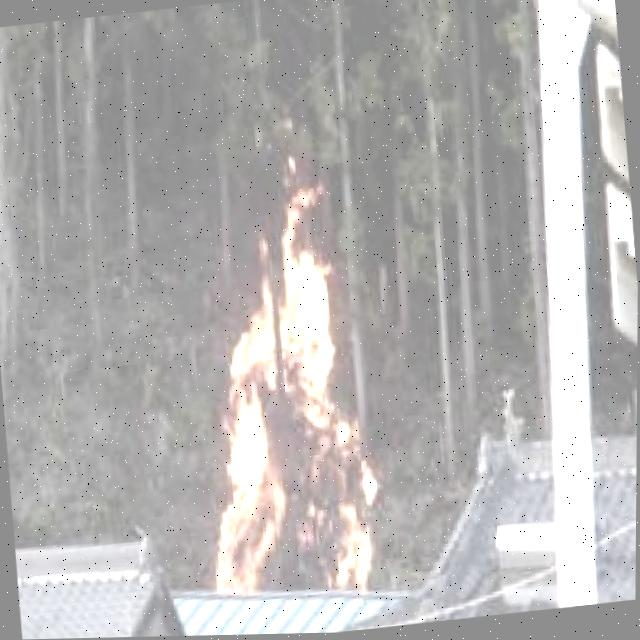Fire: (189, 176, 390, 598)
